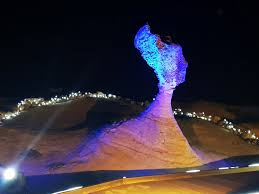yehliu: (126, 23, 199, 91)
